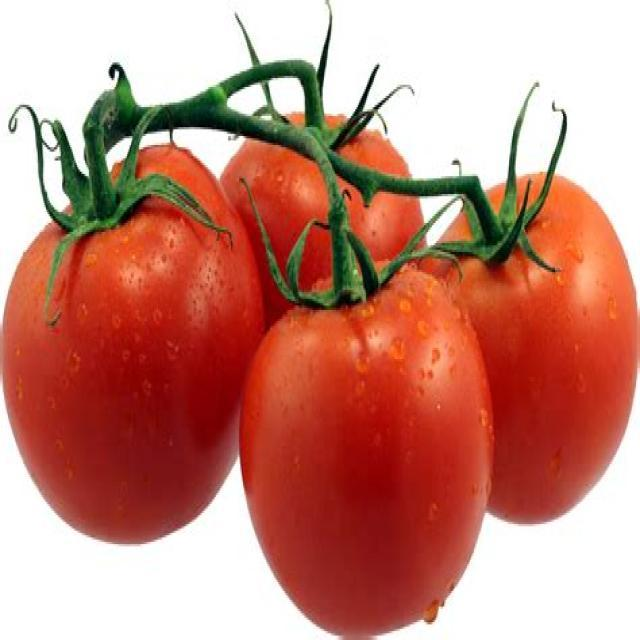Tomato: (0, 121, 268, 548), (237, 265, 495, 640), (444, 176, 640, 529), (219, 60, 465, 328)
